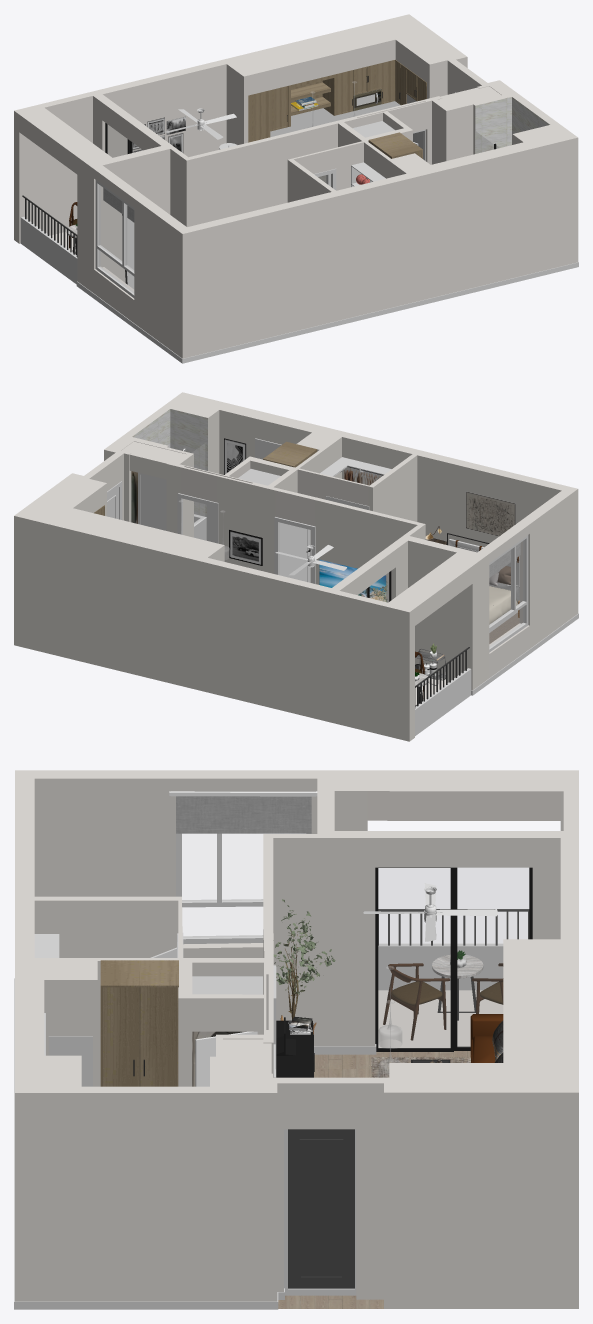
Rendered from A4 Apartment_F.glb.
3 views of the same model, one above another, from view 1: azimuth 30°, elevation 25°; view 2: azimuth 150°, elevation 25°; view 3: azimuth 270°, elevation 25° (orthographic). The views are drawn at different scales.
Parts seen in each view (by area): view 1: Cube.001, Cube.028, Cube.086, Cube.116, Cube.014, Cube.043, Cube.105, Cube.118, Cube.052, Cube.122, Plane.006; view 2: Cube.001, Cube.116, Plane.008, Cube.014, Cube.142, Cube.043, Cube.131, Plane.031, tv55.002, Cube.118, Sheet, Cube.052 (+6 smaller); view 3: Cube.001, Cube.122, Cube.106, Cube.118, Plane.039, Plane.013, Cube.014, Cube.086, Plane, Cube.016, Cube.043, Leve chair (+11 smaller).
Part boxes in pixels (left/top/right/bottom): Cube.001: left=14, top=14, right=578, bottom=358; Cube.028: left=248, top=59, right=426, bottom=142; Cube.086: left=76, top=262, right=578, bottom=363; Cube.116: left=475, top=97, right=549, bottom=153; Cube.014: left=20, top=216, right=77, bottom=284; Cube.043: left=95, top=180, right=134, bottom=298; Cube.105: left=270, top=101, right=400, bottom=137; Cube.118: left=368, top=132, right=422, bottom=158; Cube.052: left=25, top=199, right=77, bottom=256; Cube.122: left=107, top=124, right=142, bottom=157; Plane.006: left=127, top=218, right=134, bottom=289; Cube.001: left=14, top=392, right=578, bottom=741; Cube.116: left=132, top=409, right=207, bottom=518; Plane.008: left=465, top=491, right=515, bottom=536; Cube.014: left=415, top=668, right=471, bottom=735; Cube.142: left=279, top=522, right=310, bottom=582; Cube.043: left=489, top=535, right=528, bottom=652; Cube.131: left=140, top=474, right=166, bottom=530; Plane.031: left=229, top=530, right=262, bottom=565; tv55.002: left=319, top=559, right=386, bottom=601; Cube.118: left=263, top=441, right=317, bottom=467; Sheet: left=489, top=582, right=519, bottom=624; Cube.052: left=415, top=650, right=466, bottom=708; Cube.001: left=15, top=770, right=578, bottom=1308; Cube.122: left=378, top=868, right=528, bottom=1048; Cube.106: left=288, top=1129, right=354, bottom=1288; Cube.118: left=100, top=960, right=178, bottom=1086; Plane.039: left=169, top=791, right=317, bottom=833; Plane.013: left=378, top=990, right=503, bottom=1047; Cube.014: left=378, top=943, right=503, bottom=990; Cube.086: left=14, top=978, right=376, bottom=1309; Plane: left=278, top=1051, right=470, bottom=1308; Cube.016: left=375, top=867, right=532, bottom=1051; Cube.043: left=176, top=833, right=311, bottom=944; Leve chair: left=383, top=963, right=450, bottom=1040.
Size of what is drawn, in the model's own units: 1.2 by 0.3819 by 0.8872.
113 materials, 58 textured.
